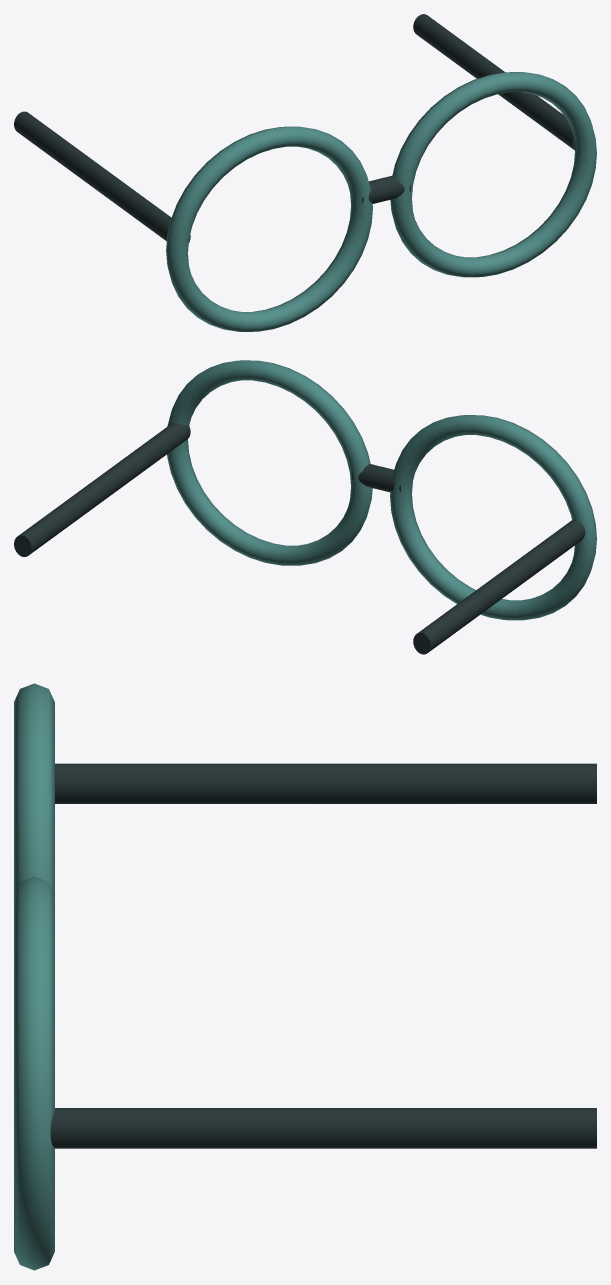
File: wp-lunettes-de-protection.glb
The picture shows the model from 3 angles, top to bottom: view 1: azimuth 30°, elevation 25°; view 2: azimuth 150°, elevation 25°; view 3: azimuth 270°, elevation 25°; orthographic projection. The views are drawn at different scales.
Parts seen in each view (by area): view 1: wp-lunettes-de-protection; view 2: wp-lunettes-de-protection; view 3: wp-lunettes-de-protection.
Boxes of the visible parts, box(x1,y1,x2,y2) form: wp-lunettes-de-protection: box(14, 14, 596, 331); wp-lunettes-de-protection: box(14, 360, 596, 654); wp-lunettes-de-protection: box(14, 683, 596, 1270).
Bounding box in the file's own units: 0.18 × 0.08 × 0.12.
